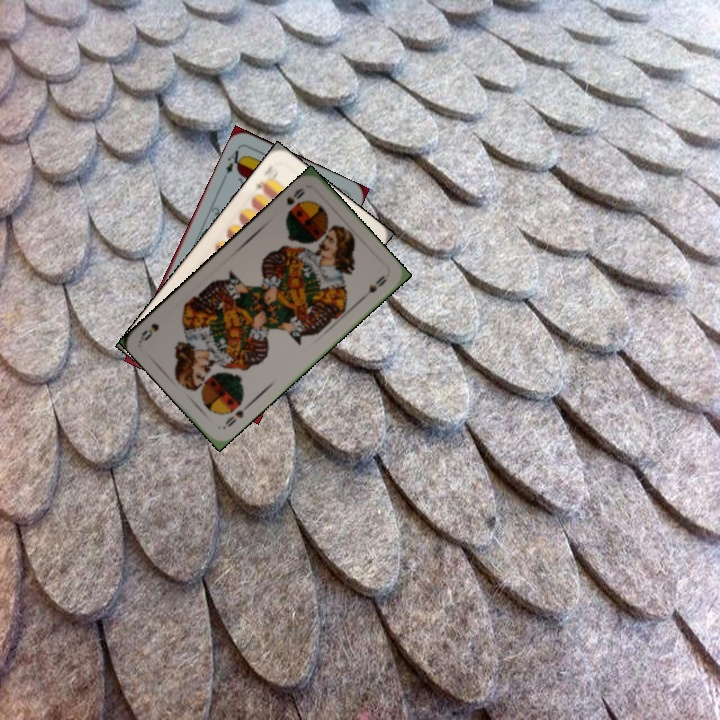E10: (251, 170, 272, 196)
EA: (222, 143, 246, 177)
SO: (221, 400, 252, 430), (282, 184, 308, 208)
